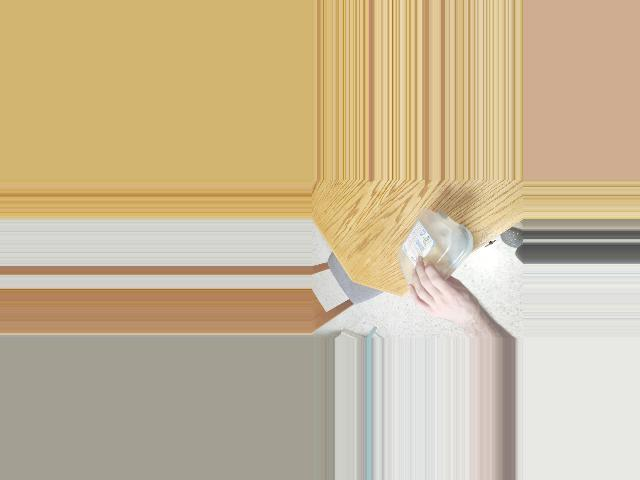cheese: (396, 208, 468, 303)
